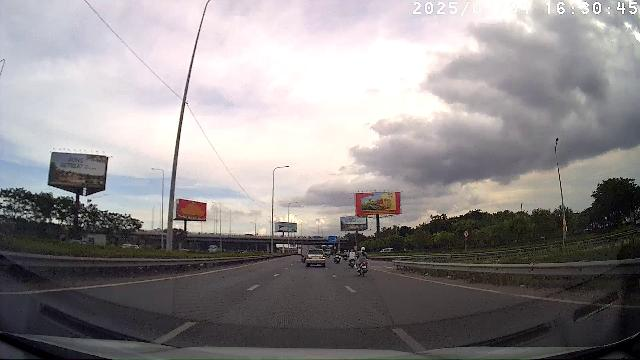123a-cam-re-trai: (464, 230, 469, 237)
